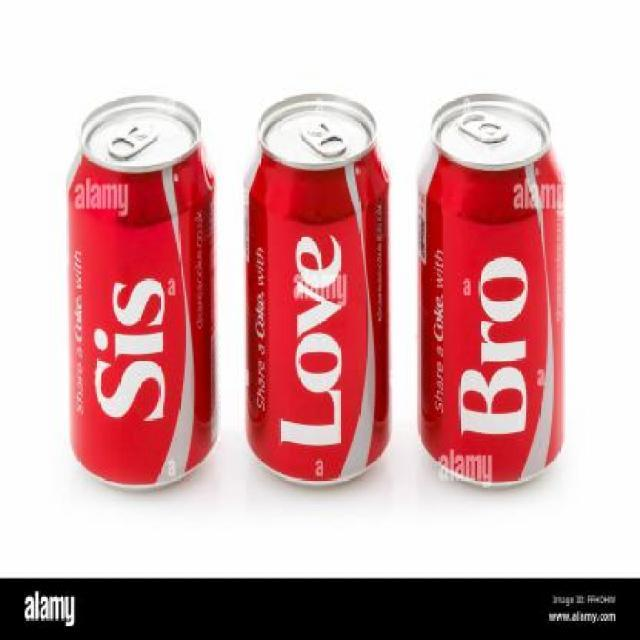can: (52, 78, 232, 504), (238, 78, 402, 507), (412, 70, 576, 495)
